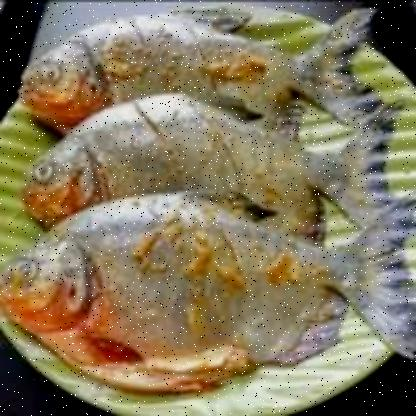ikan-pacu: (6, 197, 388, 375), (27, 106, 357, 226), (22, 9, 346, 122)
